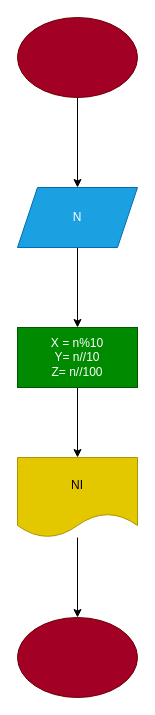
Image size: 155x715. Some labels were removed from this diagram. Each missing label, with the box of its shape:
FIN: (16, 616, 138, 698)
INICIO: (16, 16, 138, 98)
